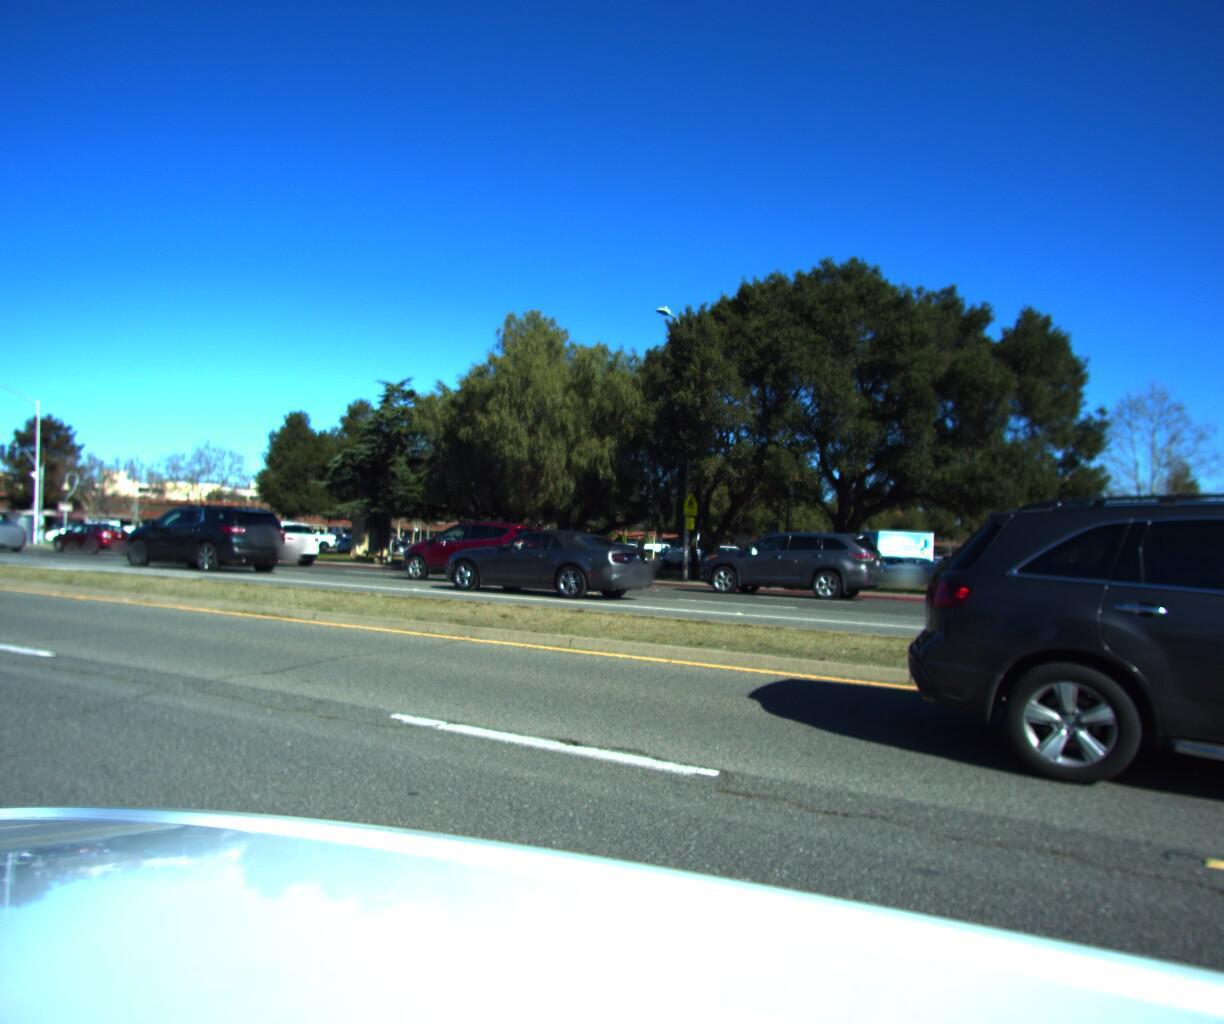car: (875, 466, 1224, 933), (436, 522, 663, 601), (685, 521, 889, 599), (111, 496, 300, 573), (381, 513, 558, 586), (198, 510, 332, 565), (46, 514, 139, 551), (58, 514, 142, 538), (265, 522, 336, 545), (0, 507, 32, 549), (43, 519, 106, 538), (334, 531, 386, 549)
